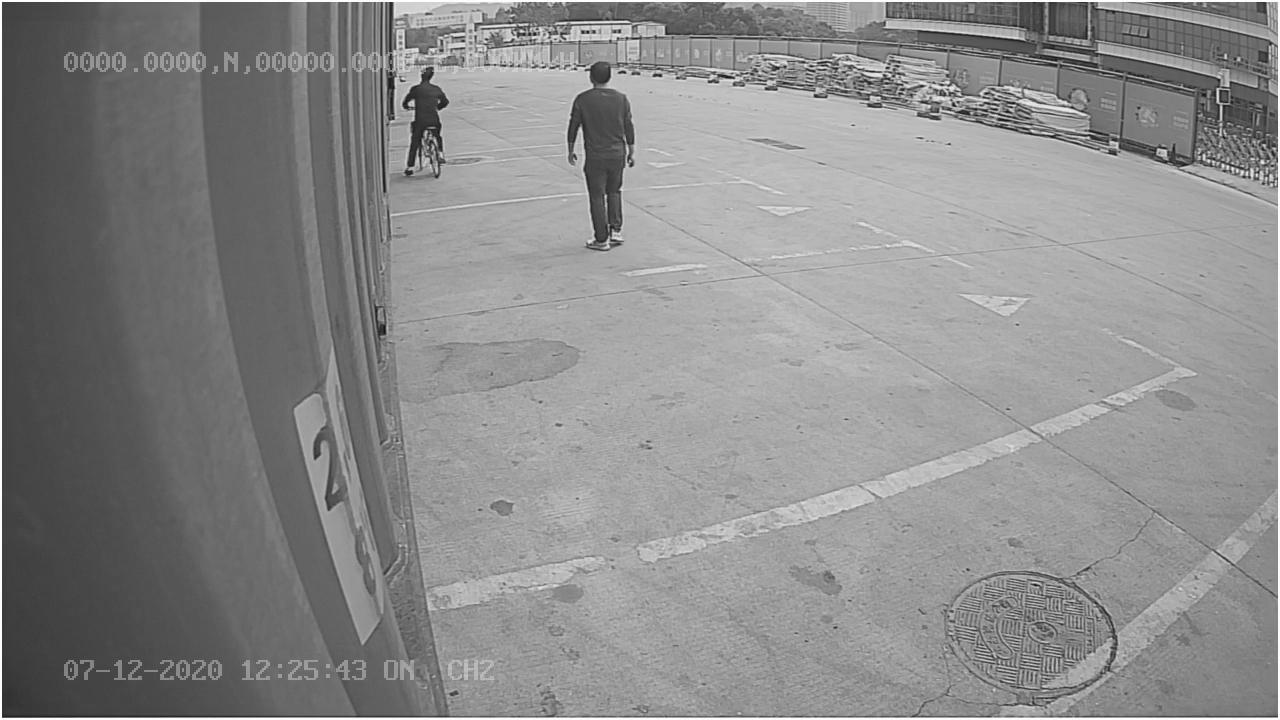person: (559, 60, 640, 256)
